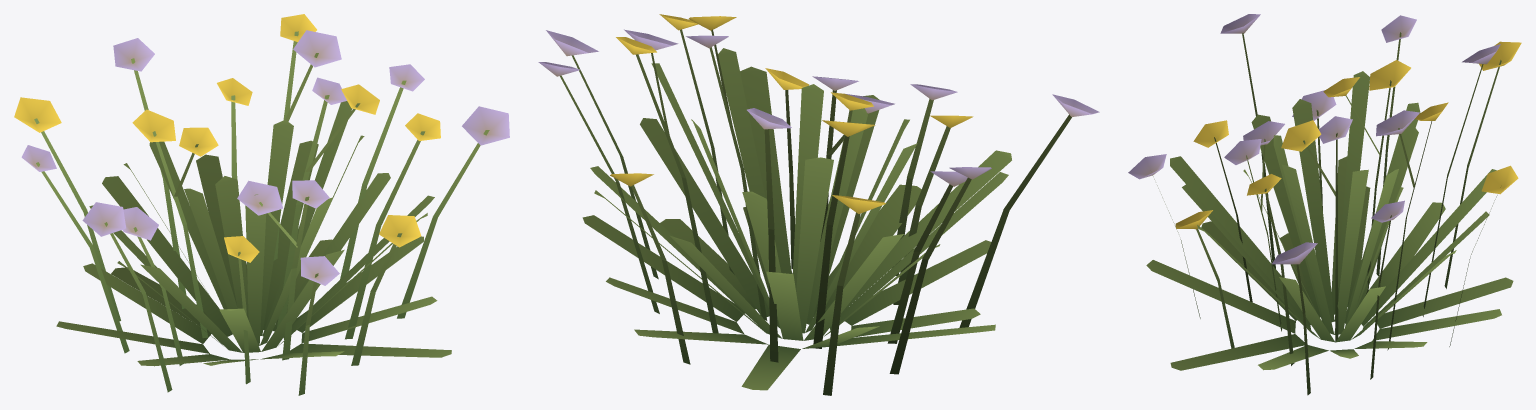
File: wildflower-clump.glb
The picture shows the model from 3 angles, left to right: view 1: azimuth 30°, elevation 25°; view 2: azimuth 150°, elevation 25°; view 3: azimuth 270°, elevation 25°; orthographic projection. The views are drawn at different scales.
Visible parts, largest first — view 1: wildflower_clump_grass_leaf, wildflower_clump_grass_stem, wildflower_clump_flower_lilac, wildflower_clump_flower_yellow; view 2: wildflower_clump_grass_leaf, wildflower_clump_grass_stem, wildflower_clump_flower_lilac, wildflower_clump_flower_yellow; view 3: wildflower_clump_grass_leaf, wildflower_clump_grass_stem, wildflower_clump_flower_lilac, wildflower_clump_flower_yellow.
Boxes of the visible parts, box(x1,y1,x2,y2) form: wildflower_clump_grass_leaf: box(56, 101, 451, 366); wildflower_clump_grass_stem: box(34, 31, 489, 395); wildflower_clump_flower_lilac: box(21, 30, 509, 285); wildflower_clump_flower_yellow: box(14, 14, 440, 262); wildflower_clump_grass_leaf: box(582, 48, 1011, 390); wildflower_clump_grass_stem: box(560, 29, 1071, 395); wildflower_clump_flower_lilac: box(538, 29, 1099, 186); wildflower_clump_flower_yellow: box(610, 14, 973, 213); wildflower_clump_grass_leaf: box(1146, 71, 1513, 370); wildflower_clump_grass_stem: box(1153, 32, 1501, 395); wildflower_clump_flower_lilac: box(1128, 14, 1500, 264); wildflower_clump_flower_yellow: box(1175, 41, 1521, 229).
Size of the model in its own units: 0.3928 by 0.2203 by 0.2931.
